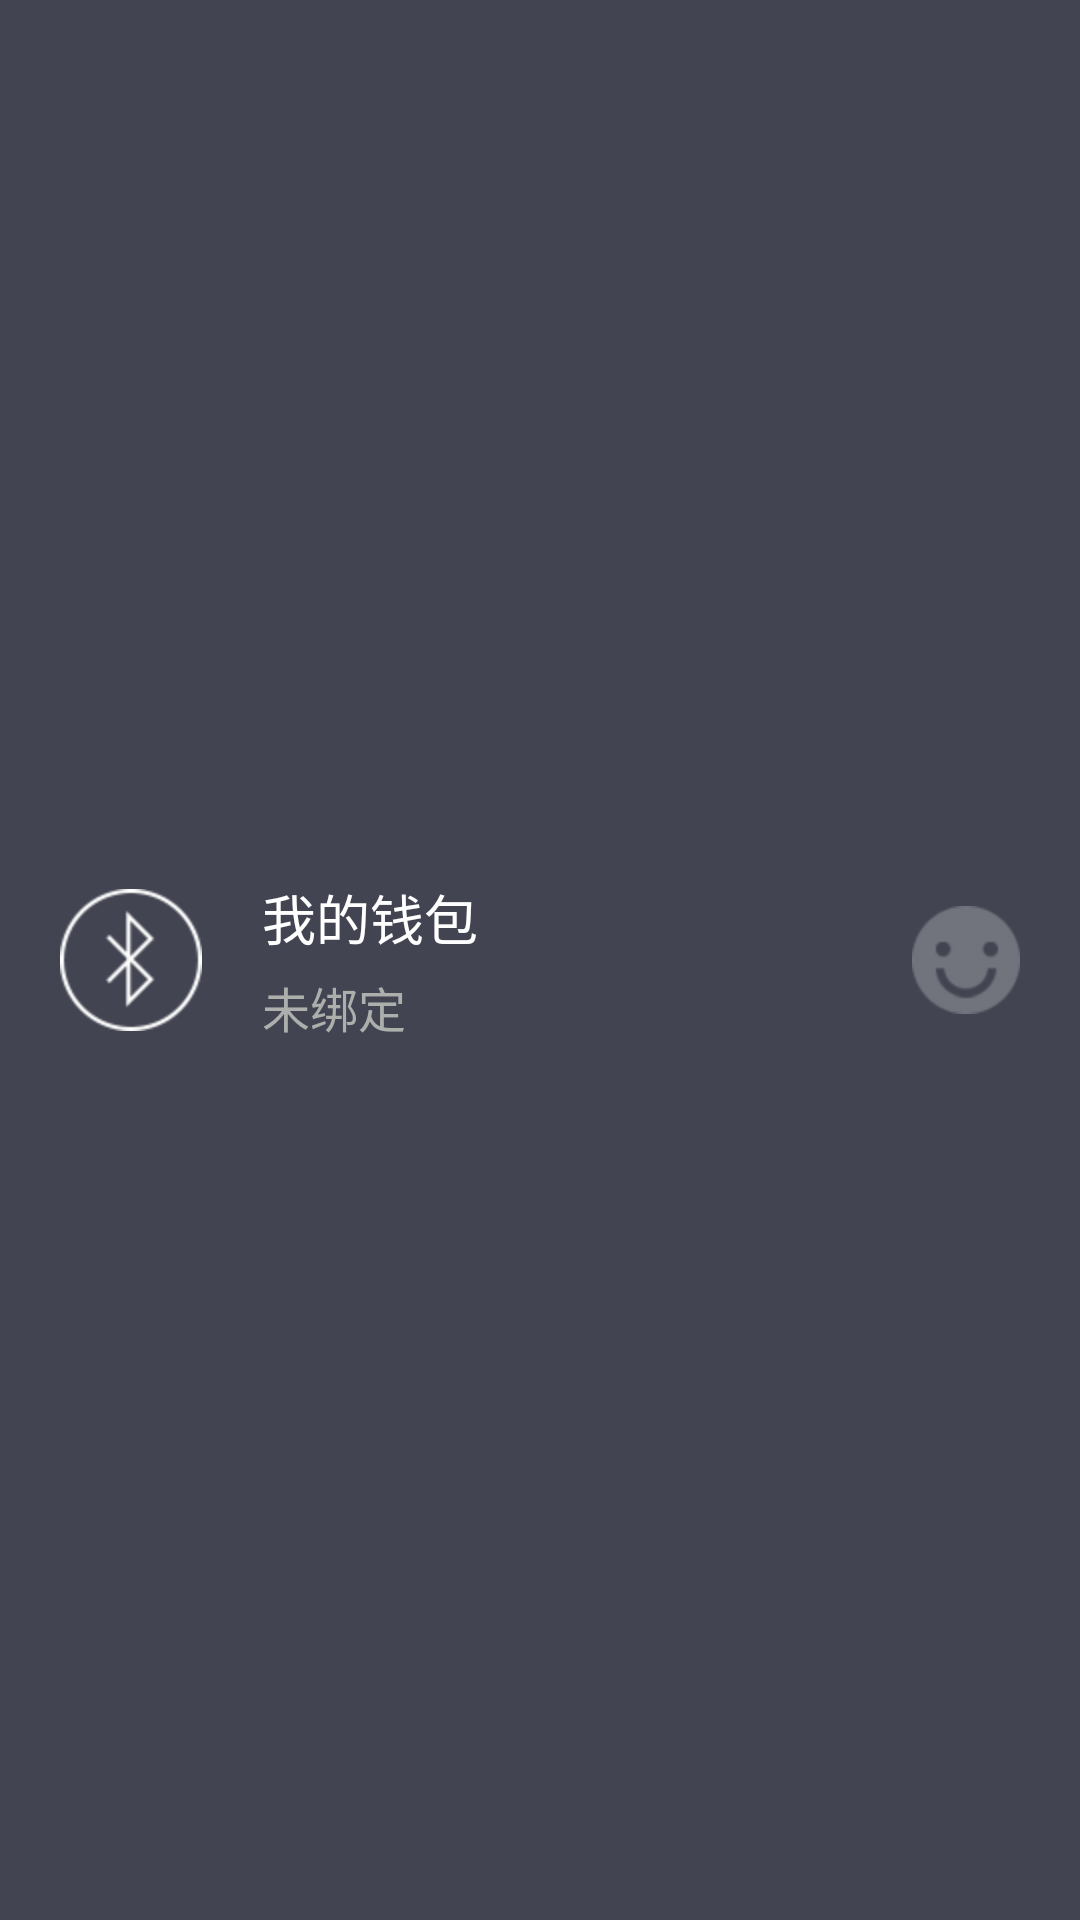

Where icons sit on this 1080 x 1920 app screen, as [left=x1, top=y1, right=x2, bottom=y2]:
face: [left=912, top=906, right=1020, bottom=1014]
